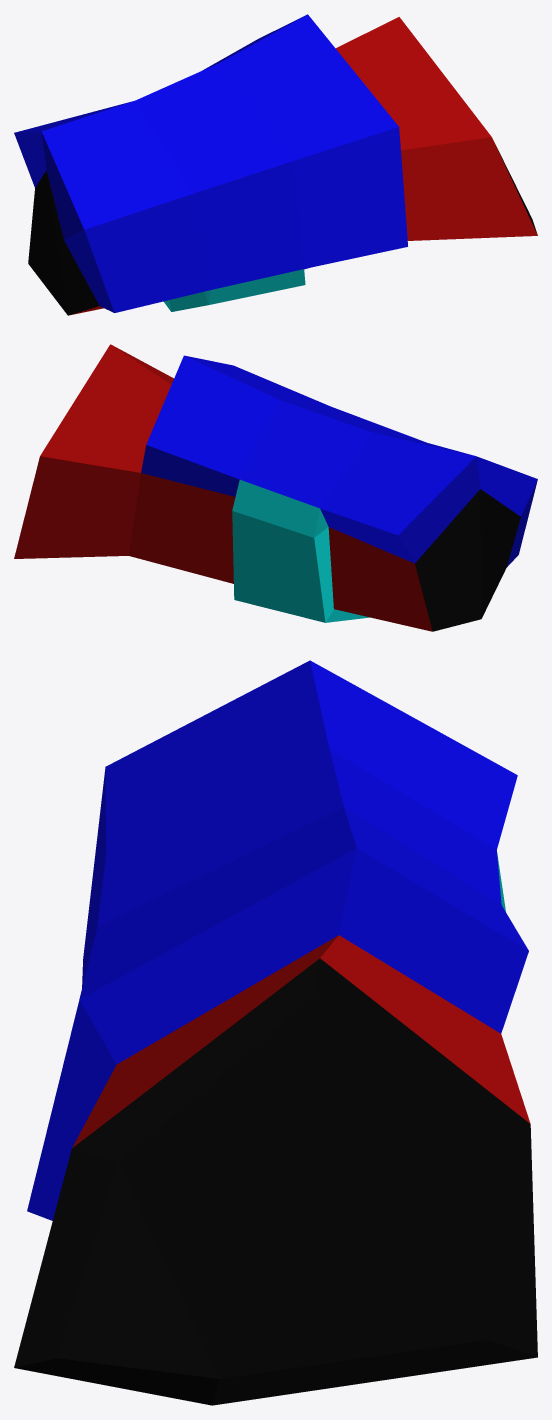
The model's file is Chr_ArmUpperRight_Male_Static_08.fbx.
The picture shows the model from 3 angles, top to bottom: view 1: azimuth 30°, elevation 25°; view 2: azimuth 150°, elevation 25°; view 3: azimuth 270°, elevation 25°; orthographic projection. The views are drawn at different scales.
Parts seen in each view (by area): view 1: Chr_ArmUpperRight_Male_08; view 2: Chr_ArmUpperRight_Male_08; view 3: Chr_ArmUpperRight_Male_08.
Boxes of the visible parts, x1,y1,x2,y2 form: Chr_ArmUpperRight_Male_08: (14, 14, 537, 315); Chr_ArmUpperRight_Male_08: (14, 344, 537, 631); Chr_ArmUpperRight_Male_08: (14, 660, 537, 1405).
Size of the model in its own units: 33.07 by 17.31 by 17.36.
